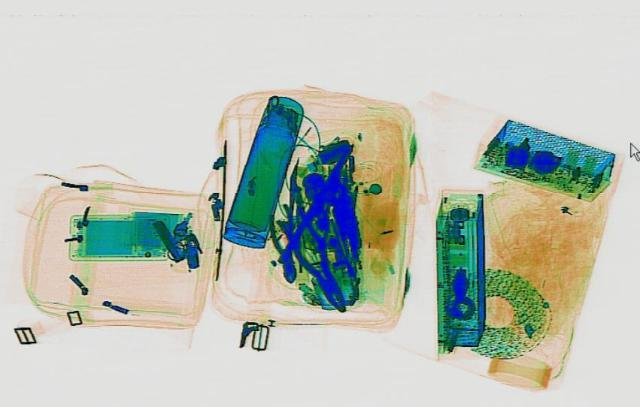Pliers: (267, 206, 363, 315), (265, 202, 305, 281)
